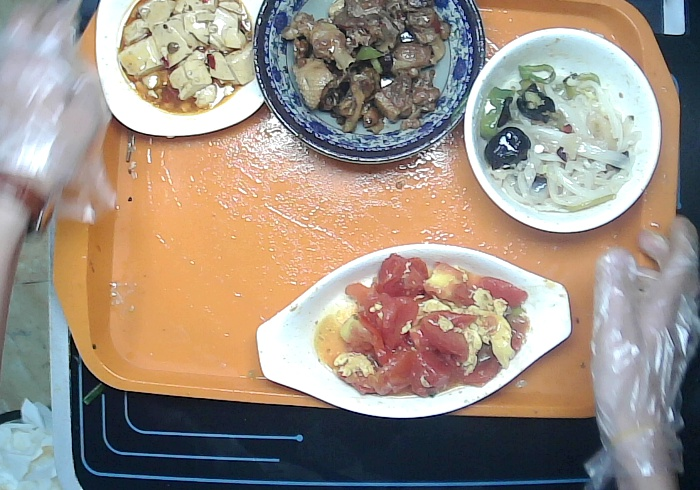ZNLD-Qing_Hua_Wan: (246, 1, 491, 175)
ZNLD-Si_Fang_Wan: (89, 1, 268, 143)
ZNLD-Tang_Wan: (462, 18, 666, 236)
ZNLD-Yu_Pan: (249, 244, 578, 430)
